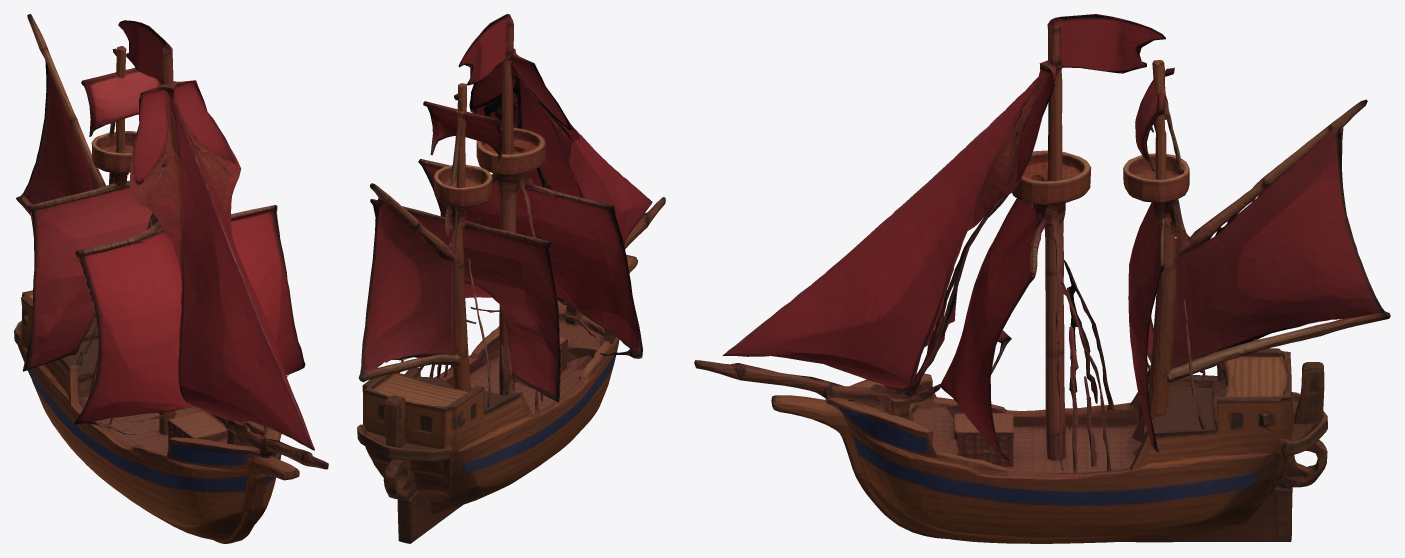
Rendered from mediumpirate_advanced.glb.
3 views of the same model, side by side, from view 1: azimuth 30°, elevation 25°; view 2: azimuth 150°, elevation 25°; view 3: azimuth 270°, elevation 25° (orthographic). The views are drawn at different scales.
Parts seen in each view (by area): view 1: world; view 2: world; view 3: world.
Part boxes in pixels (<box>): world: <box>14,14,328,543</box>; world: <box>357,14,665,543</box>; world: <box>694,14,1390,543</box>.
Bounding box in the file's own units: 0.4326 × 0.8351 × 1.
1 material, 1 textured.
